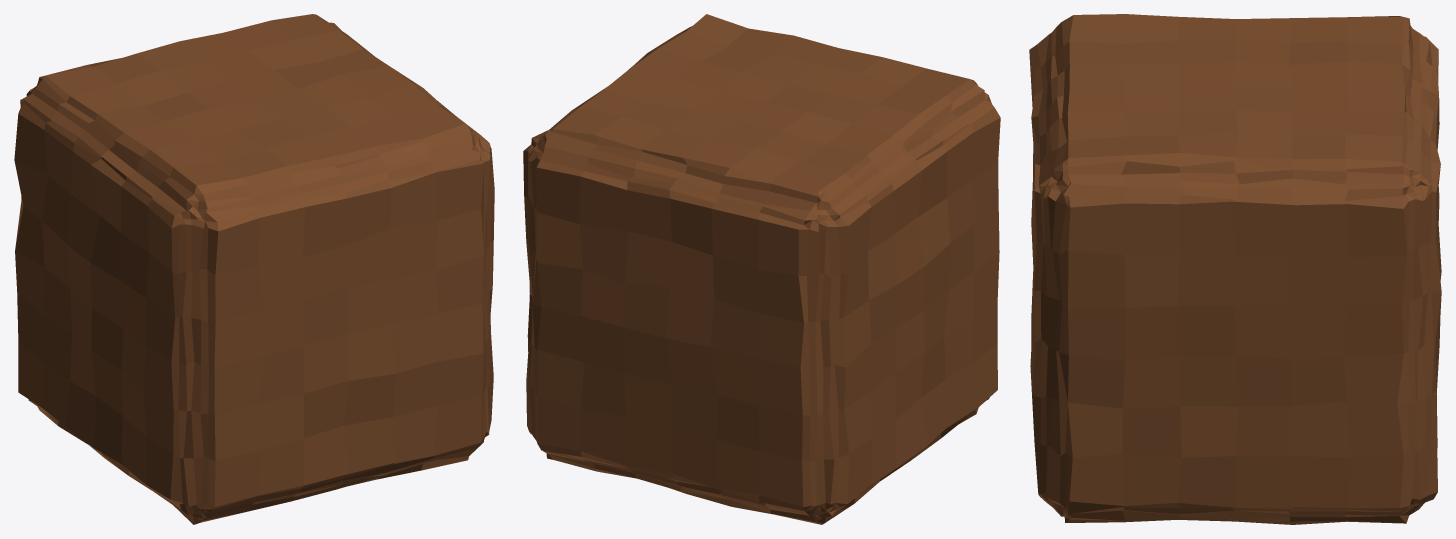
Rendered from rock1.fbx.
3 renders of one model, left to right at view 1: azimuth 30°, elevation 25°; view 2: azimuth 150°, elevation 25°; view 3: azimuth 270°, elevation 25°, orthographic. The views are drawn at different scales.
Visible parts, largest first — view 1: Cube.001; view 2: Cube.001; view 3: Cube.001.
Boxes of the visible parts, <box> form: Cube.001: <box>14,14,494,524</box>; Cube.001: <box>523,14,1000,524</box>; Cube.001: <box>1029,14,1441,524</box>.
Size of the model in its own units: 205 by 204 by 205.
